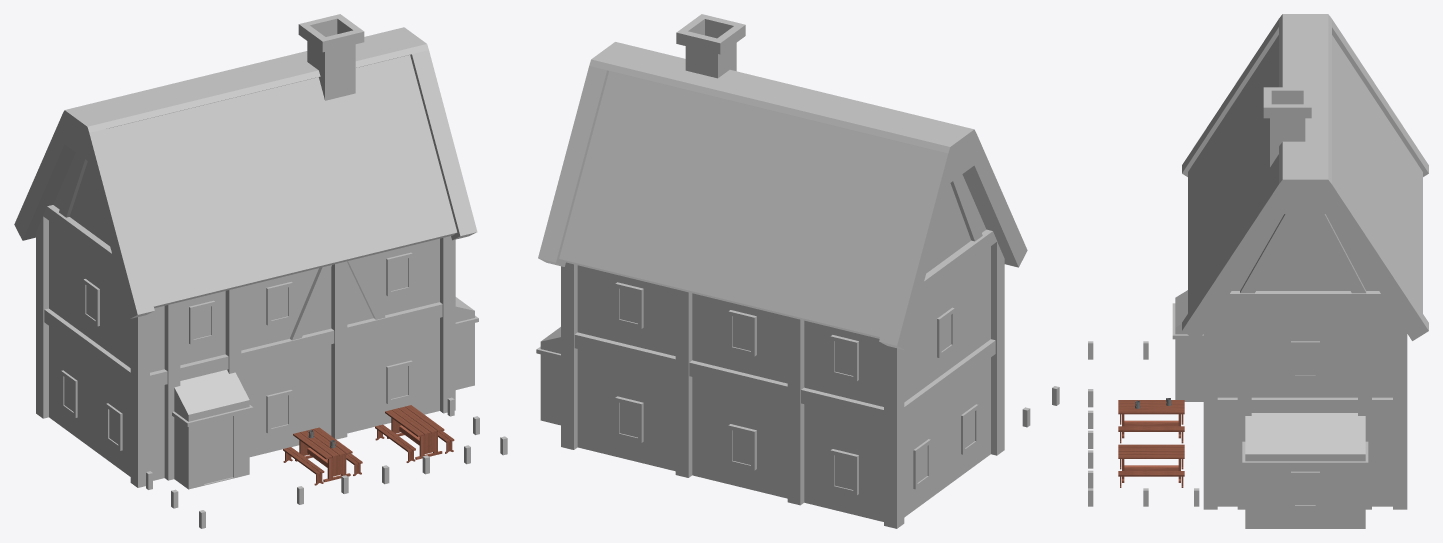
File: M_Tavern_1.fbx
The picture shows the model from 3 angles, left to right: view 1: azimuth 30°, elevation 25°; view 2: azimuth 150°, elevation 25°; view 3: azimuth 270°, elevation 25°; orthographic projection. The views are drawn at different scales.
Visible parts, largest first — view 1: M_Tavern_1, M_Table_1; view 2: M_Tavern_1; view 3: M_Tavern_1, M_Table_1.
Part boxes in pixels (x1,y1,x2,y2): M_Tavern_1: [14, 14, 507, 528]; M_Table_1: [283, 405, 454, 485]; M_Tavern_1: [536, 14, 1059, 528]; M_Tavern_1: [1088, 14, 1428, 528]; M_Table_1: [1118, 400, 1184, 487].
Size of the model in its own units: 12.13 by 11.61 by 9.64.
